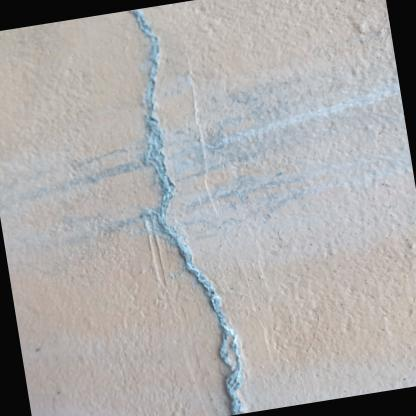crack: (125, 8, 249, 416)
